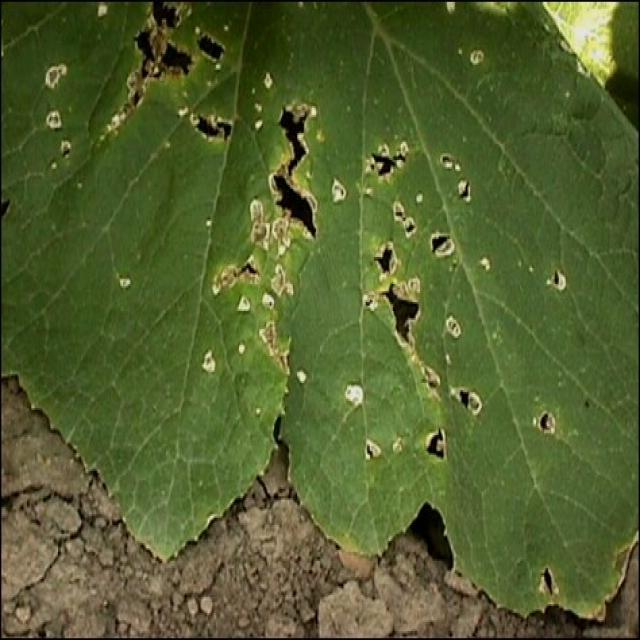Pumpkin Beetle: (347, 137, 582, 462), (180, 68, 344, 412), (34, 1, 238, 168), (447, 200, 460, 230)
